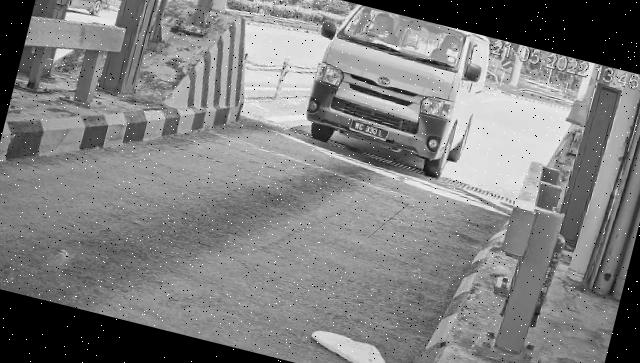License_Plate: (352, 119, 389, 142)
van: (300, 1, 498, 185)
